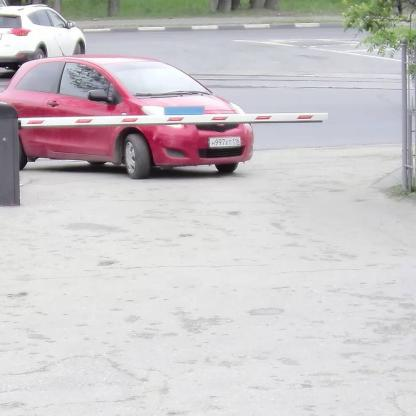plate: (209, 137, 241, 147)
